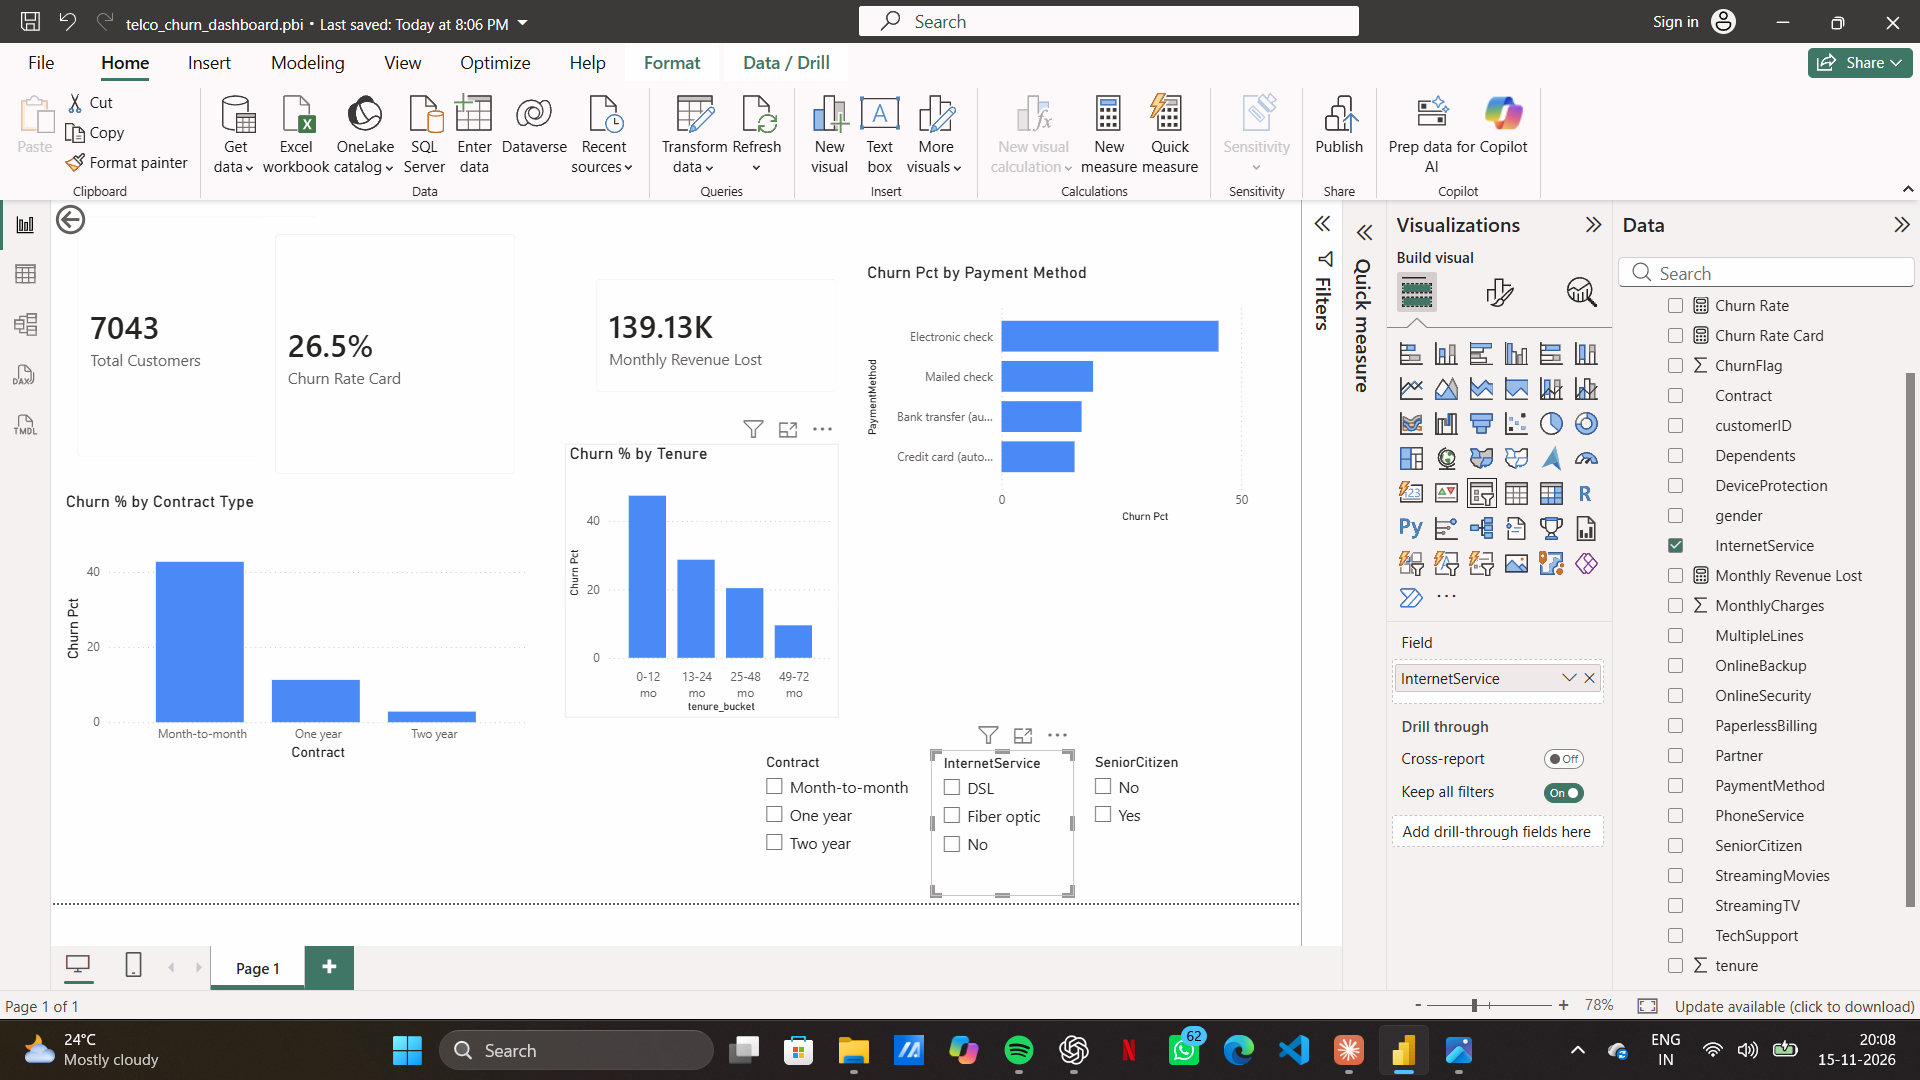

The dashboard page shown, as its layout file describes it:
{"tool":"powerbi","page":{"name":"Page 1","canvas":[1280,720],"ordinal":0},"visuals":[{"type":"cardVisual","fields":{"Data":["Customers.Total Customers"]},"box":[10,0,280,280],"z":0},{"type":"cardVisual","fields":{"Data":["Customers.Churn Rate Card"]},"box":[212.5,17.9,280,280],"z":1000},{"type":"cardVisual","fields":{"Data":["Customers.Monthly Revenue Lost"]},"box":[541.4,64,280,150],"z":2000},{"type":"clusteredColumnChart","title":"Churn % by Contract Type","fields":{"Category":["Customers.Contract"],"Y":["Customers.Churn Pct"]},"box":[10.2,298.2,482.6,280.3],"z":3000},{"type":"clusteredColumnChart","title":"Churn % by Tenure","fields":{"Y":["Customers.Churn Pct"],"Category":["Customers.tenure_bucket"]},"box":[526.1,249.6,280,280],"z":4000},{"type":"clusteredBarChart","title":"Churn Pct by Payment Method","fields":{"Category":["Customers.PaymentMethod"],"Y":["Customers.Churn Pct"]},"box":[830.7,64,449.3,271.4],"z":5000},{"type":"slicer","fields":{"Values":["Customers.Contract"]},"box":[719.4,561.9,172.8,117.8],"z":6000},{"type":"slicer","fields":{"Values":["Customers.InternetService"]},"box":[901.1,563.2,145.9,149.8],"z":7000},{"type":"actionButton","box":[0,0,100,40],"z":8000},{"type":"slicer","fields":{"Values":["Customers.SeniorCitizen"]},"box":[1056,561.9,224,149.8],"z":9000}]}

Visuals, with their boxes on the page's 1280x720 design canvas (x1, y1, x2, y2). These are canvas units, not pixel positions in the 1920x1080 screenshot, which may show the page scaled, cropped or inside an application window:
cardVisual - Customers.Total Customers: region(10, 0, 290, 280)
cardVisual - Customers.Churn Rate Card: region(212, 18, 492, 298)
cardVisual - Customers.Monthly Revenue Lost: region(541, 64, 821, 214)
"Churn % by Contract Type" clusteredColumnChart: region(10, 298, 493, 578)
"Churn % by Tenure" clusteredColumnChart: region(526, 250, 806, 530)
"Churn Pct by Payment Method" clusteredBarChart: region(831, 64, 1280, 335)
slicer - Customers.Contract: region(719, 562, 892, 680)
slicer - Customers.InternetService: region(901, 563, 1047, 713)
actionButton: region(0, 0, 100, 40)
slicer - Customers.SeniorCitizen: region(1056, 562, 1280, 712)
